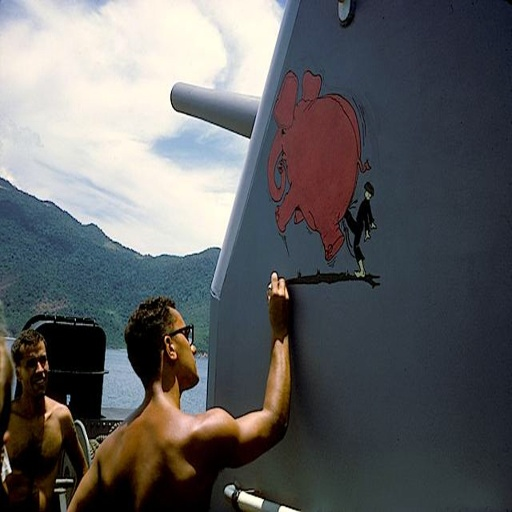hand: (266, 271, 289, 331)
